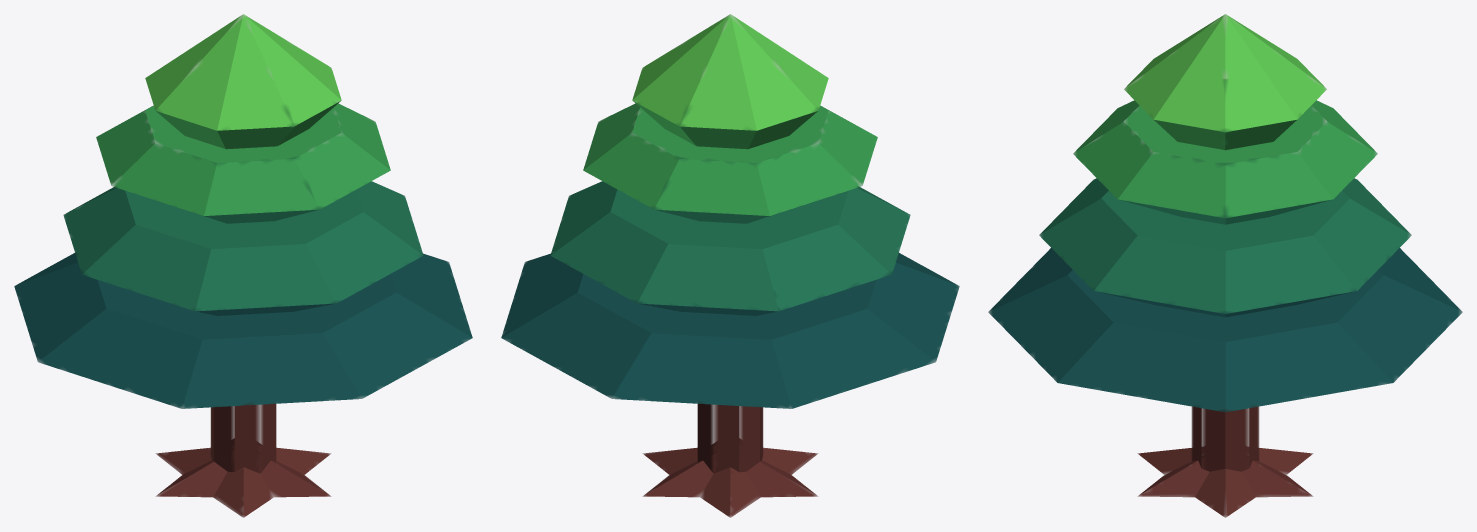
File: albero.glb
3 renders of one model, left to right at view 1: azimuth 30°, elevation 25°; view 2: azimuth 150°, elevation 25°; view 3: azimuth 270°, elevation 25°, orthographic.
Visible parts, largest first — view 1: group_2_30377, group_3_30377, group_4_30377, group_5_30377, group_0_8736284, group_1_9722662; view 2: group_2_30377, group_3_30377, group_4_30377, group_5_30377, group_0_8736284, group_1_9722662; view 3: group_2_30377, group_3_30377, group_4_30377, group_5_30377, group_0_8736284, group_1_9722662.
Part boxes in pixels (x1=…): group_2_30377: x1=14, y1=252, x2=472, y2=408; group_3_30377: x1=63, y1=156, x2=423, y2=315; group_4_30377: x1=96, y1=103, x2=390, y2=223; group_5_30377: x1=145, y1=14, x2=341, y2=149; group_0_8736284: x1=156, y1=438, x2=331, y2=517; group_1_9722662: x1=210, y1=403, x2=276, y2=473; group_2_30377: x1=501, y1=253, x2=959, y2=408; group_3_30377: x1=550, y1=156, x2=910, y2=315; group_4_30377: x1=583, y1=103, x2=877, y2=223; group_5_30377: x1=632, y1=14, x2=828, y2=149; group_0_8736284: x1=642, y1=438, x2=817, y2=517; group_1_9722662: x1=697, y1=403, x2=763, y2=473; group_2_30377: x1=988, y1=248, x2=1462, y2=412; group_3_30377: x1=1039, y1=156, x2=1411, y2=317; group_4_30377: x1=1073, y1=79, x2=1377, y2=224; group_5_30377: x1=1124, y1=14, x2=1326, y2=150; group_0_8736284: x1=1137, y1=447, x2=1313, y2=517; group_1_9722662: x1=1191, y1=406, x2=1259, y2=471.
Size of the model in its own units: 2.76 by 2.96 by 2.76.
Materials: 1 (1 with a texture image).
